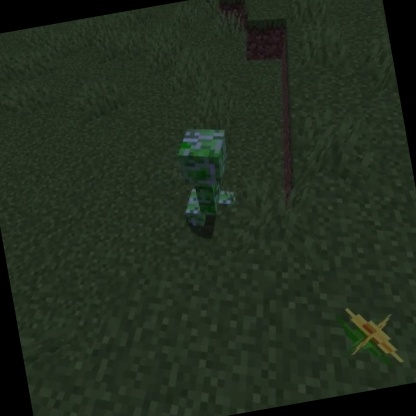creeper: (168, 119, 244, 233)
